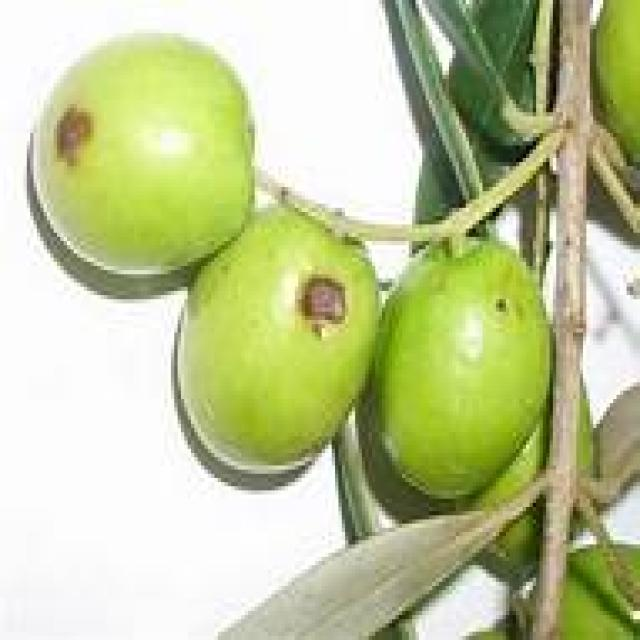Olive Fruit Fly: (178, 211, 378, 470), (37, 42, 251, 276), (372, 237, 546, 495)
